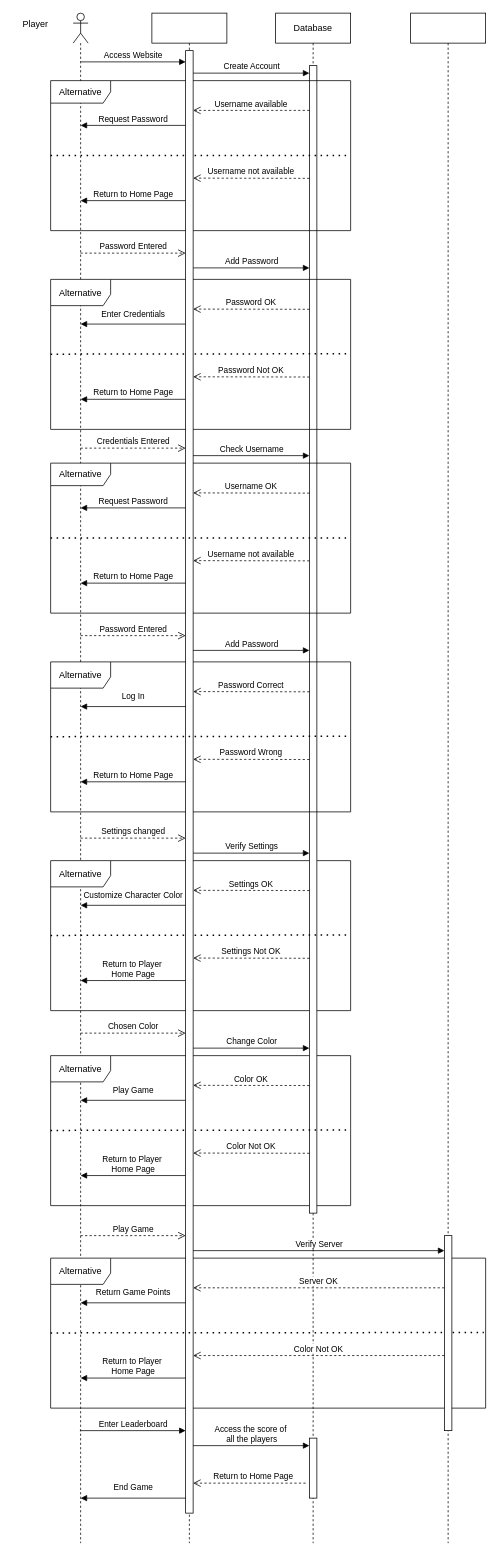
This 499x1556 diagram has some shape labels left out. The box of each missing label's shape, as (x1, y1, x2, y2) in pixels:
Game Server: (410, 12, 486, 1543)
Website: (151, 12, 227, 1543)
